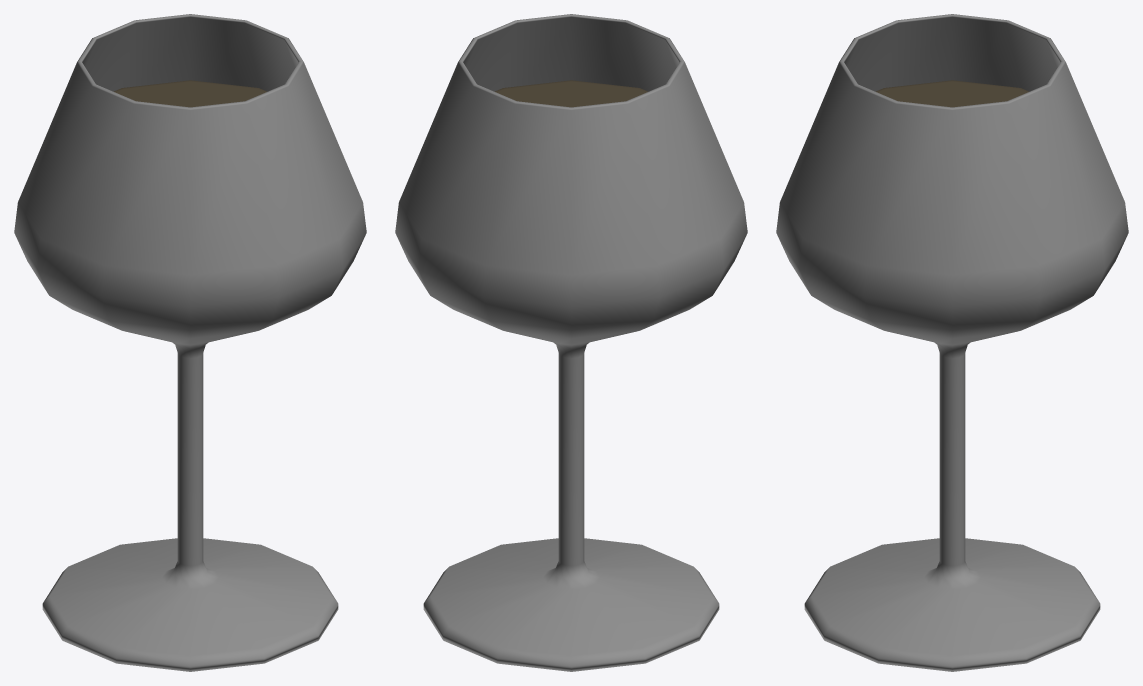
File: WineGlass.fbx
3 renders of one model, left to right at view 1: azimuth 30°, elevation 25°; view 2: azimuth 150°, elevation 25°; view 3: azimuth 270°, elevation 25°, orthographic.
Parts seen in each view (by area): view 1: WineGlass, Liquid; view 2: WineGlass, Liquid; view 3: WineGlass, Liquid.
Boxes of the visible parts, x1,y1,x2,y2 form: WineGlass: (14, 14, 366, 671); Liquid: (114, 80, 266, 107); WineGlass: (395, 14, 747, 671); Liquid: (495, 80, 647, 107); WineGlass: (776, 14, 1128, 671); Liquid: (876, 80, 1028, 107).
Bounding box in the file's own units: 0.0112 × 0.0193 × 0.0112.
